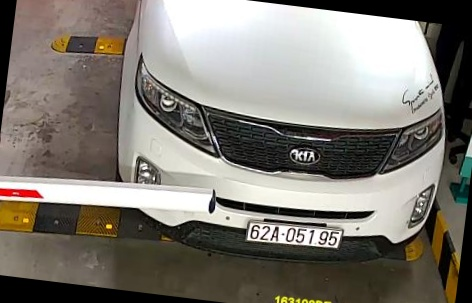plate: (242, 210, 343, 262)
